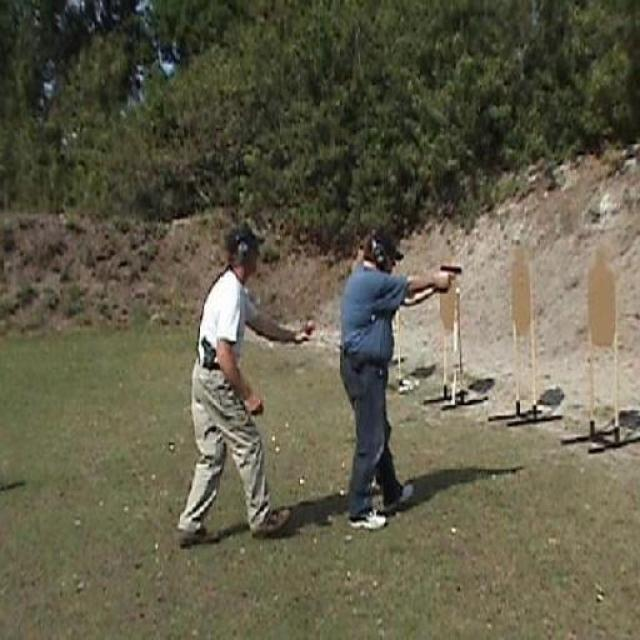pistol: (435, 263, 462, 291)
